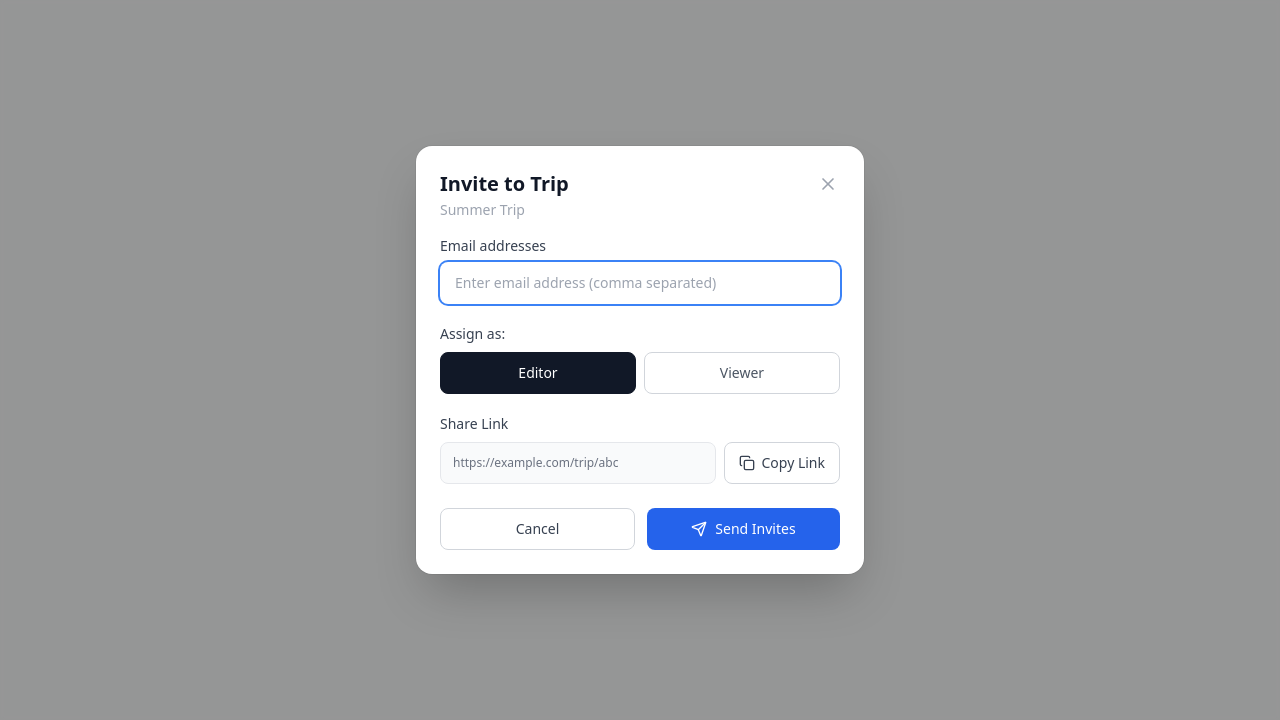
InviteModal › handleCopyLink › uses Clipboard API when available
Click the button with aria-label "Copy shareable link" at (782,463), box [724,442,840,484]
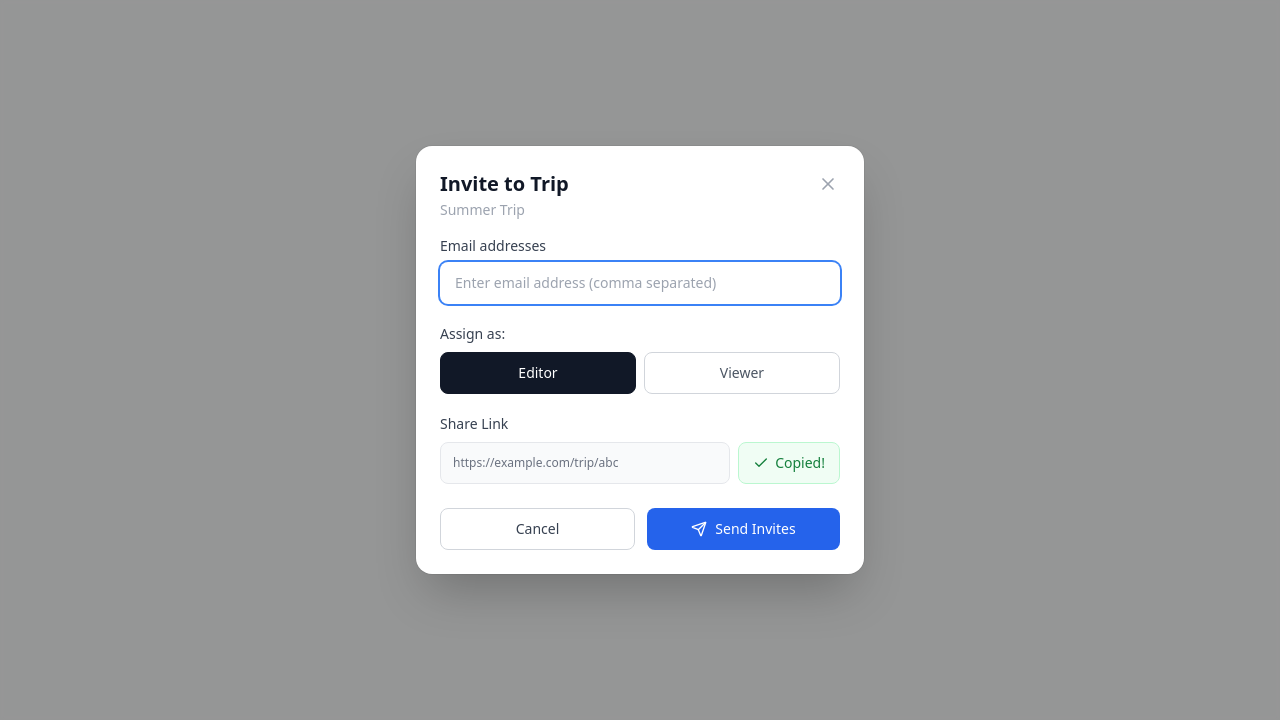
Check: the button with aria-label "Link copied to clipboard" is shown, box [738,442,840,484]
